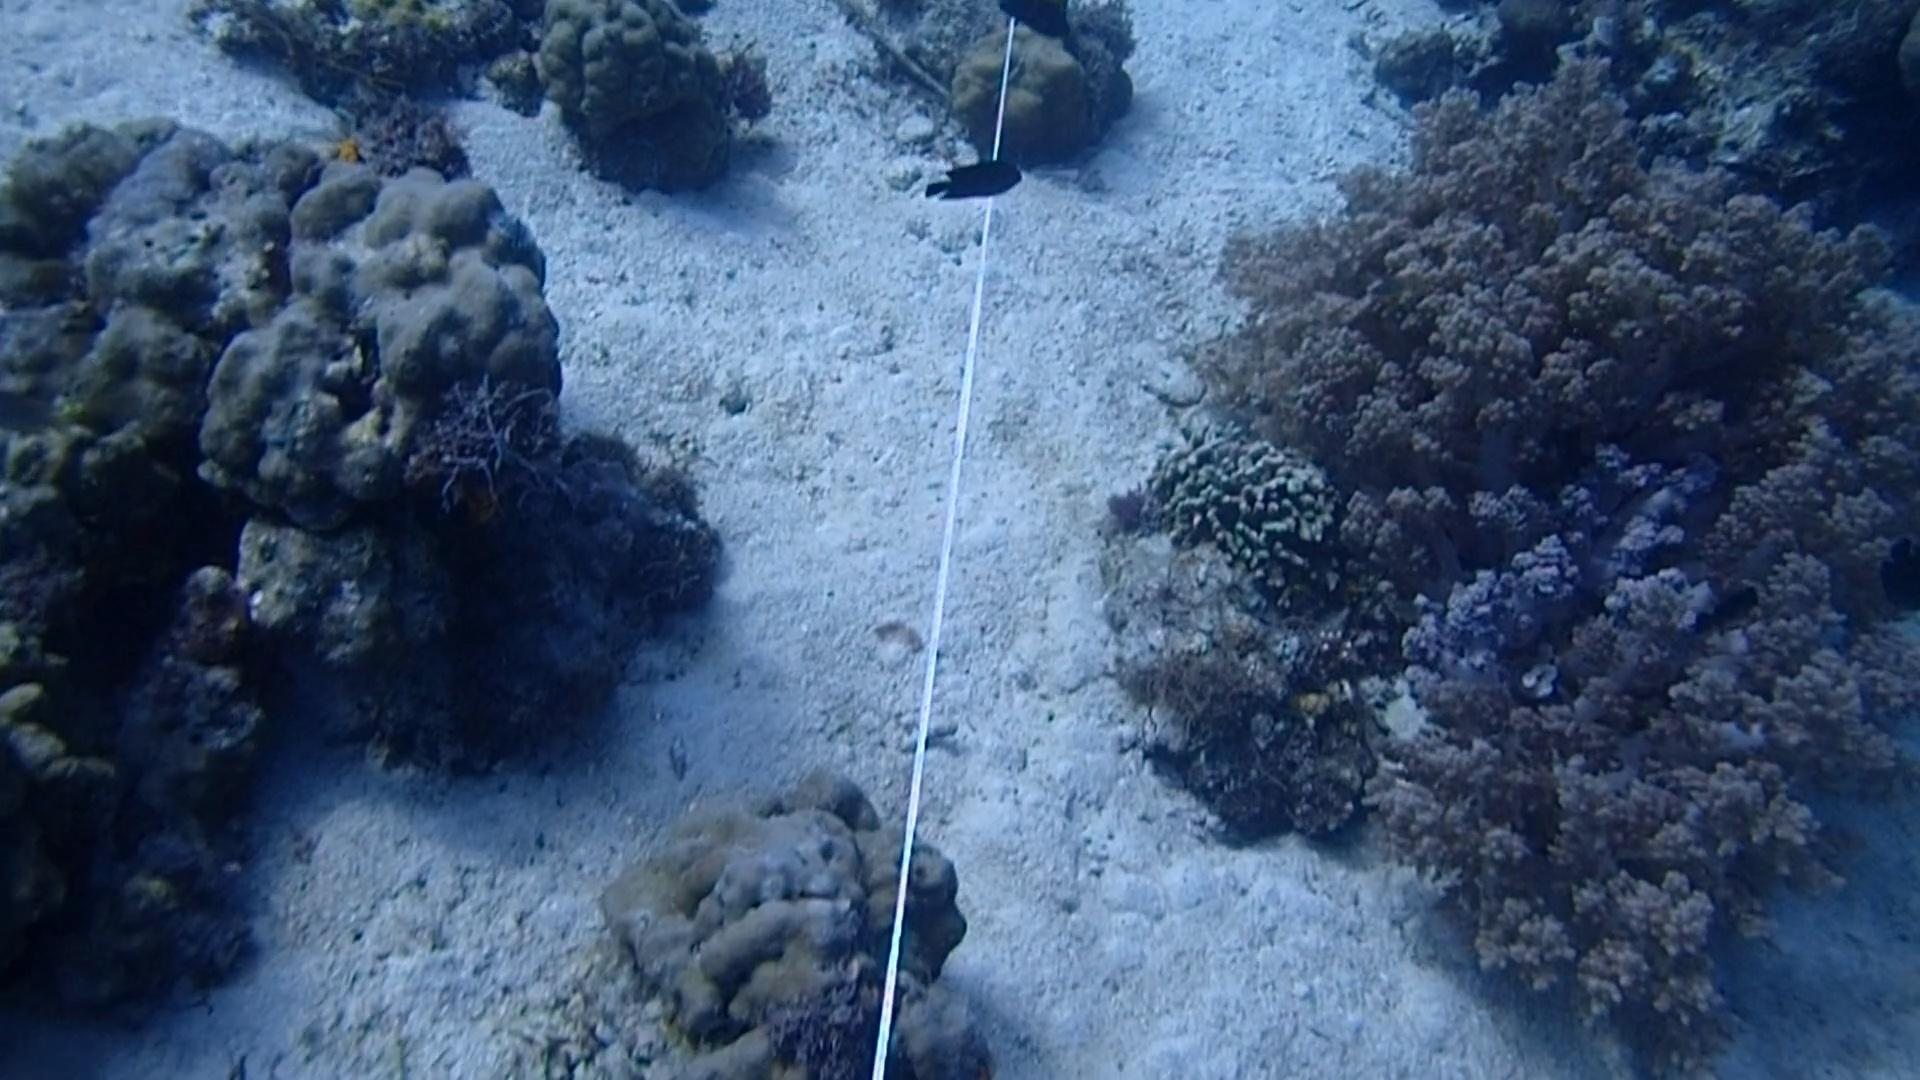Dark Fish: (919, 146, 1023, 212), (1685, 576, 1772, 640), (1879, 531, 1920, 621)
